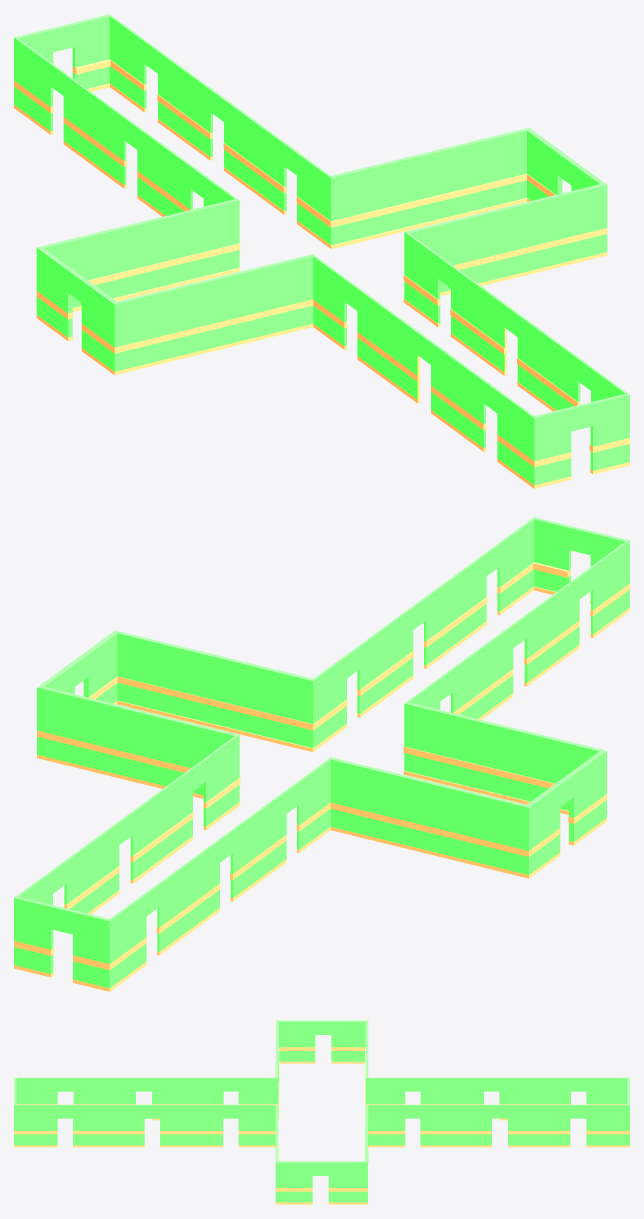
Rendered from Corridor.FBX.
3 views of the same model, one above another, from view 1: azimuth 30°, elevation 25°; view 2: azimuth 150°, elevation 25°; view 3: azimuth 270°, elevation 25° (orthographic). The views are drawn at different scales.
Visible parts, largest first — view 1: Corridor; view 2: Corridor; view 3: Corridor.
Part boxes in pixels (x1,y1,x2,y2): Corridor: [14, 14, 629, 488]; Corridor: [14, 517, 629, 991]; Corridor: [14, 1020, 629, 1204].
Bounding box in the file's own units: 2177 × 299 × 3984.
